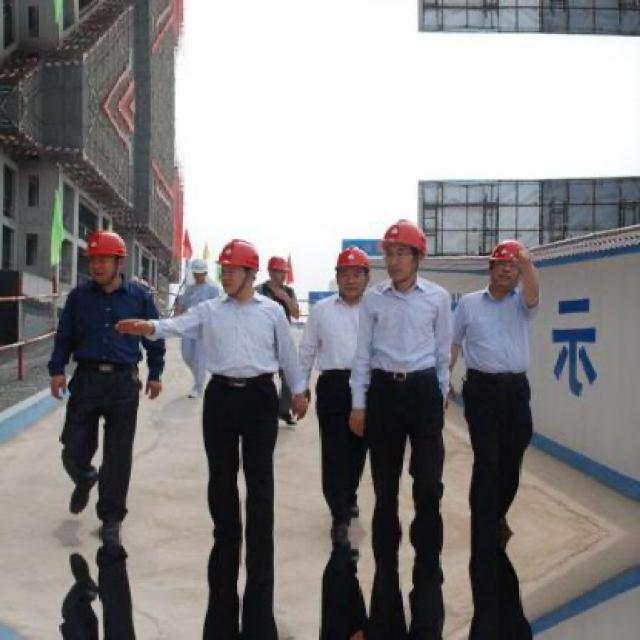con casco: (363, 186, 462, 282), (191, 230, 305, 309), (65, 217, 157, 297), (245, 246, 335, 320), (345, 238, 410, 315), (490, 220, 547, 300)
